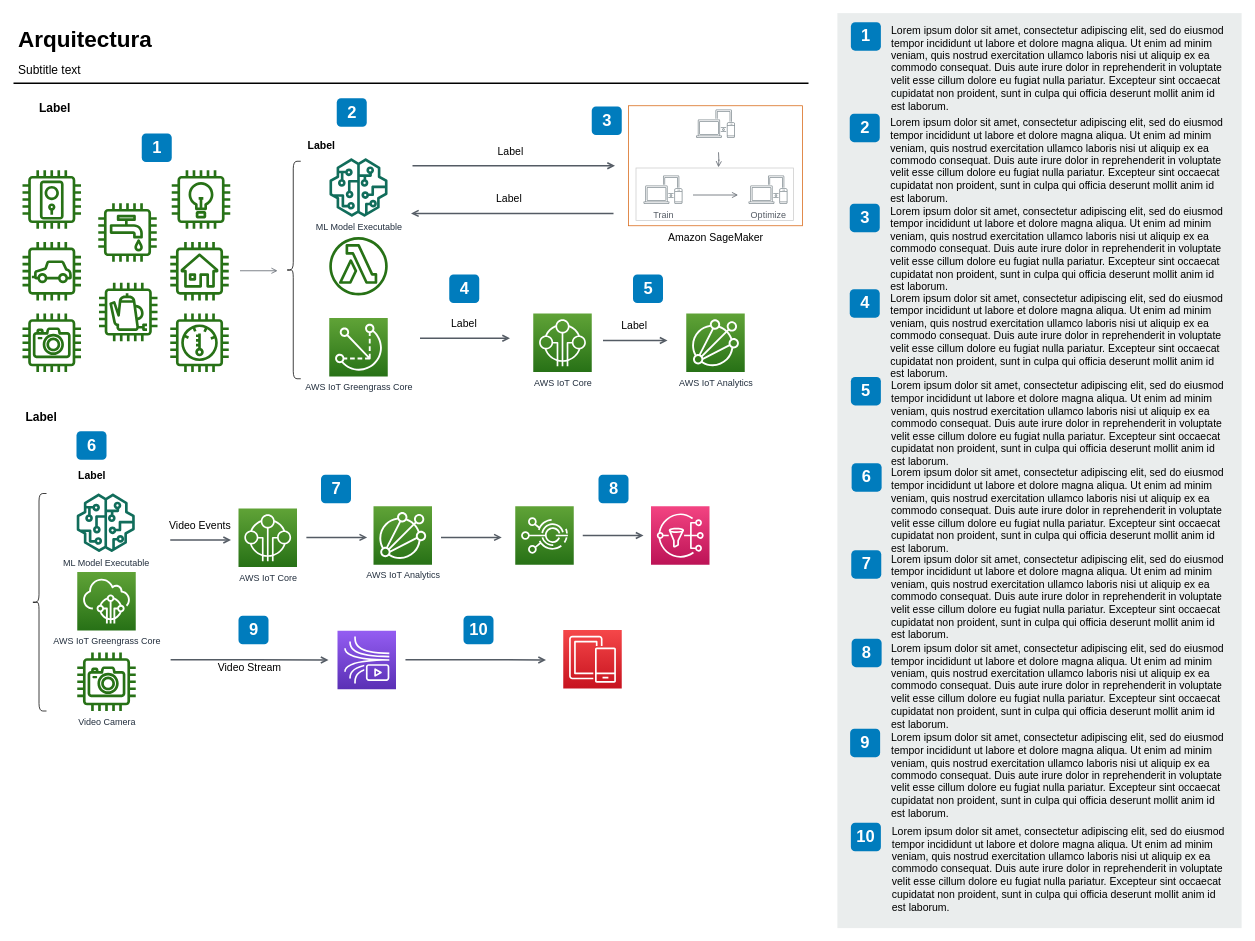
Some shapes in this 1255 by 941 pixel diagram are drawn without their labels. Here are the shapes that lost their labels. From the top down, the centre of each, then its label:
At [715,123]: "Build".
At [358,266]: "AWS Lambda Function".
At [544,535]: "AWS IoT Events".
At [680,535]: "Amazon SNS".
At [366,659]: "Amazon Kinesis Video Streams".
At [592,658]: "Mobile Application".
